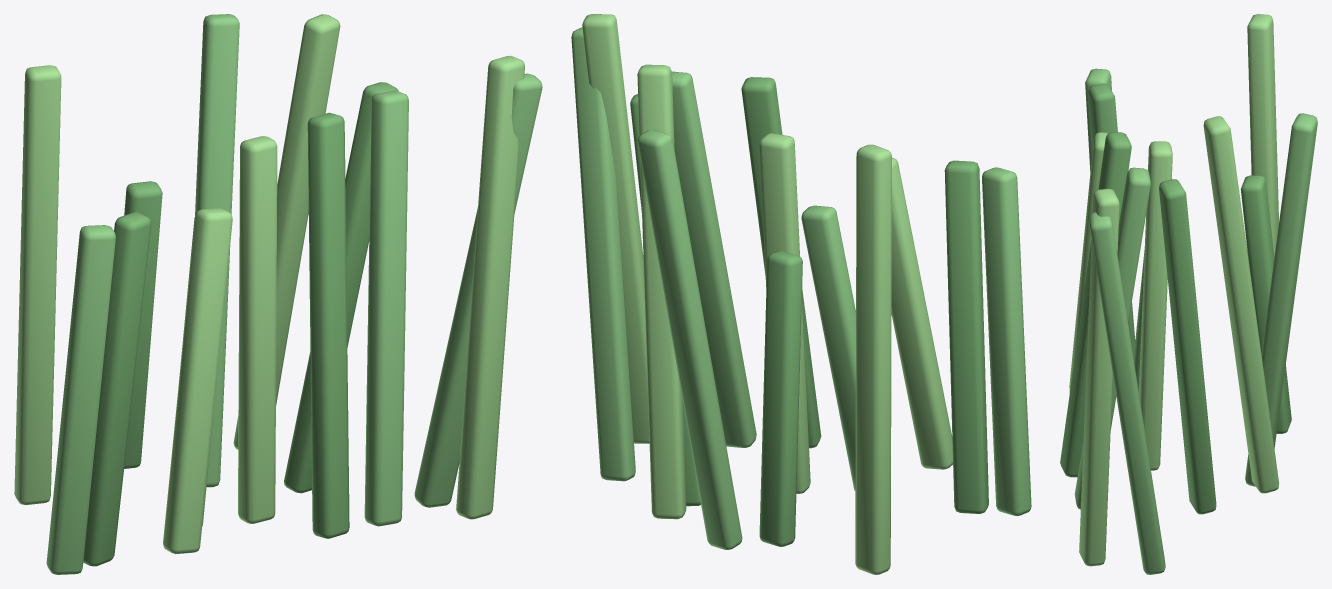
File: tallgrass.glb
3 views of the same model, side by side, from view 1: azimuth 30°, elevation 25°; view 2: azimuth 150°, elevation 25°; view 3: azimuth 270°, elevation 25° (orthographic). The views are drawn at different scales.
Parts seen in each view (by area): view 1: Blade_4, Blade_3, Blade_10, Blade_2, Blade_7, Blade_1, Blade_0, Blade_5, Blade_13, Blade_12, Blade_9, Blade_8 (+1 smaller); view 2: Blade_10, Blade_12, Blade_9, Blade_5, Blade_0, Blade_3, Blade_13, Blade_11, Blade_4, Blade_1, Blade_6, Blade_7 (+2 smaller); view 3: Blade_13, Blade_8, Blade_9, Blade_4, Blade_12, Blade_7, Blade_10, Blade_2, Blade_11, Blade_3, Blade_1, Blade_5 (+2 smaller).
Part boxes in pixels (x1,y1,x2,y2): Blade_4: (456,56,524,519); Blade_3: (364,90,408,526); Blade_10: (14,65,61,504); Blade_2: (307,112,349,538); Blade_7: (238,136,277,523); Blade_1: (163,208,232,554); Blade_0: (46,225,115,574); Blade_5: (83,212,151,566); Blade_13: (233,14,340,449); Blade_12: (195,14,239,487); Blade_9: (414,73,542,507); Blade_8: (284,82,398,493); Blade_10: (855,144,891,574); Blade_12: (637,129,742,549); Blade_9: (571,27,635,481); Blade_5: (944,160,988,513); Blade_0: (982,167,1031,516); Blade_3: (672,71,756,447); Blade_13: (637,64,686,519); Blade_11: (759,251,802,546); Blade_4: (582,14,649,443); Blade_1: (891,158,952,469); Blade_6: (801,205,855,490); Blade_7: (759,133,810,493); Blade_13: (1203,116,1279,493); Blade_8: (1159,179,1216,514); Blade_9: (1089,212,1165,574); Blade_4: (1079,188,1119,566); Blade_12: (1245,113,1317,486); Blade_7: (1139,141,1172,470); Blade_10: (1247,14,1278,256); Blade_2: (1060,132,1131,477); Blade_11: (1240,175,1291,433); Blade_3: (1074,167,1150,509); Blade_1: (1069,132,1109,392); Blade_5: (1088,83,1135,357).
Bounding box in the file's own units: 0.6467 × 0.6132 × 0.3427.
